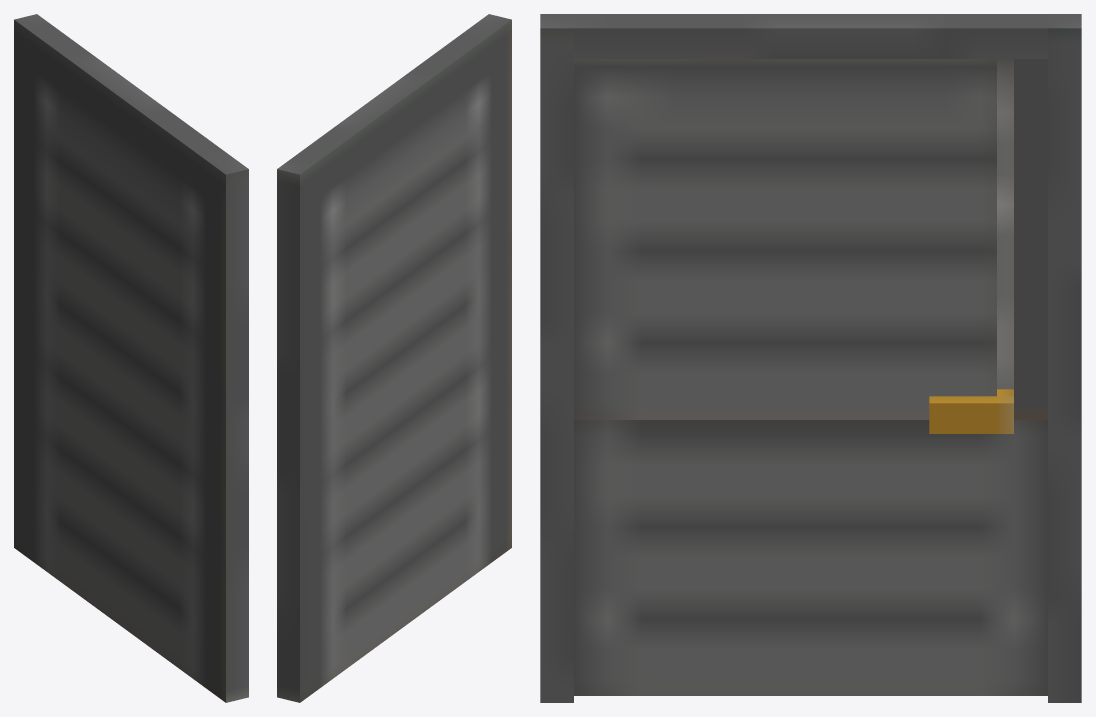
The model's file is DoorGrey_01.obj.
The picture shows the model from 3 angles, left to right: view 1: azimuth 30°, elevation 25°; view 2: azimuth 150°, elevation 25°; view 3: azimuth 270°, elevation 25°; orthographic projection. The views are drawn at different scales.
Visible parts, largest first — view 1: DoorGrey_01; view 2: DoorGrey_01; view 3: DoorGrey_01.
Boxes of the visible parts, left/top/right/bottom form: DoorGrey_01: left=14, top=14, right=248, bottom=702; DoorGrey_01: left=277, top=14, right=511, bottom=702; DoorGrey_01: left=540, top=14, right=1081, bottom=702.
Size of the model in its own units: 0.15 by 2.2 by 1.6.
